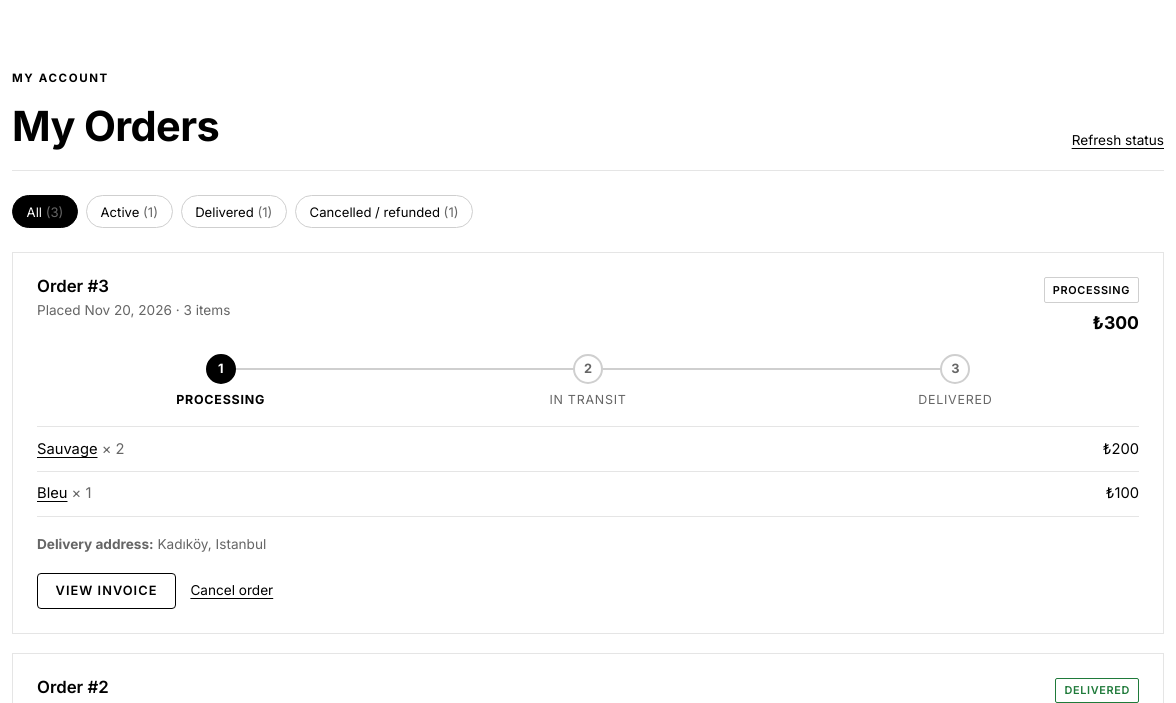
Test: OrdersPage › filters orders with the tabs
Expected: the heading "Order #3" is shown, [37,276,109,296]
Click the tab "Delivered (1)" at (234, 212), box [181,195,287,228]
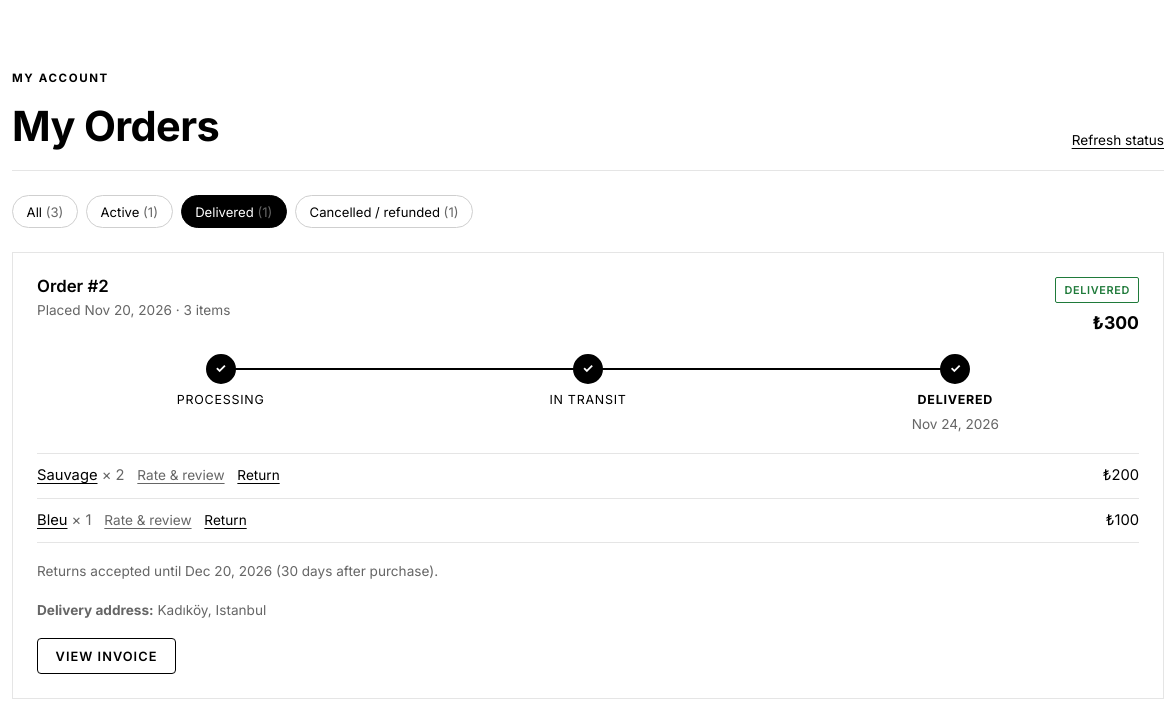
Expected: the heading "Order #2" is shown, [37,276,109,296]
Result: the heading "Order #3" is gone
